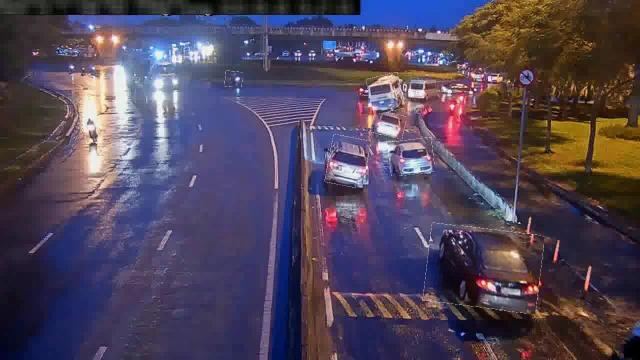Bike: (84, 118, 98, 142), (225, 71, 243, 87)
Bus: (368, 74, 404, 112)
Car: (426, 226, 542, 310), (327, 136, 369, 187), (389, 138, 435, 176), (371, 111, 405, 137)
